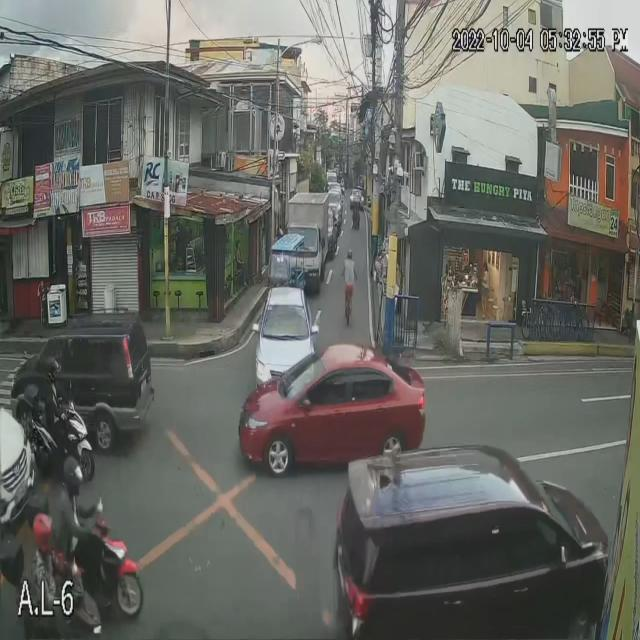full: (62, 458, 83, 497), (44, 358, 58, 380)
half: (34, 512, 54, 555)
